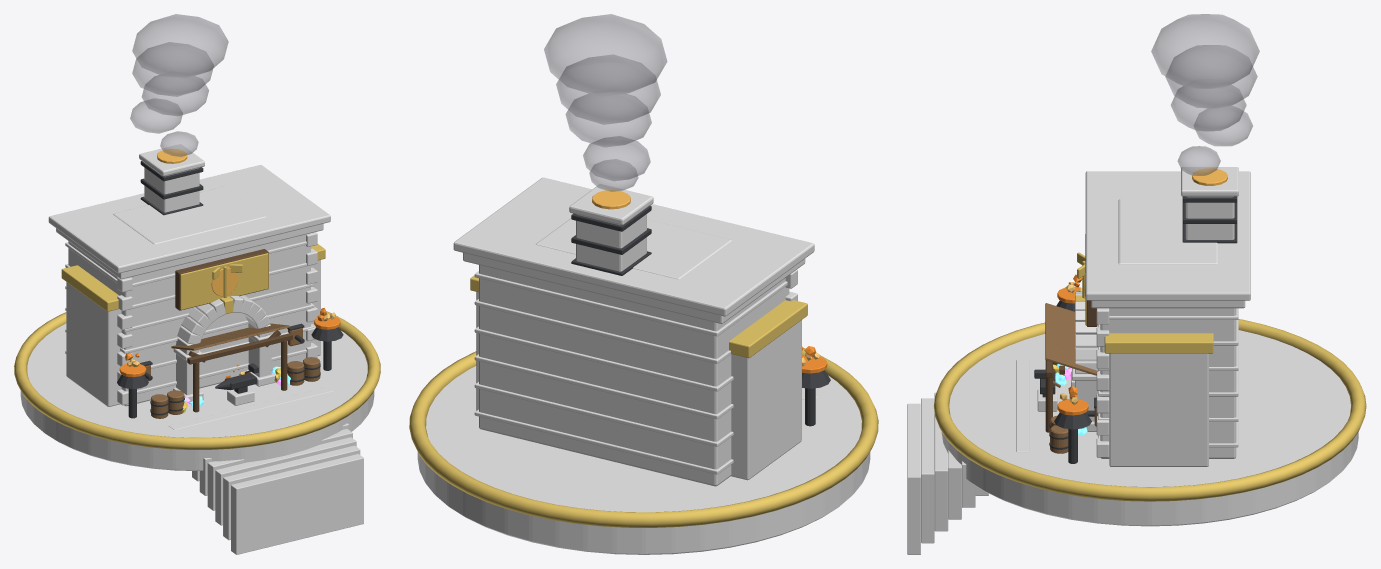
File: 02_Ignis.fbx
The picture shows the model from 3 angles, left to right: view 1: azimuth 30°, elevation 25°; view 2: azimuth 150°, elevation 25°; view 3: azimuth 270°, elevation 25°; orthographic projection. The views are drawn at different scales.
Visible parts, largest first — view 1: Ig_Plat, Ig_Corpo, Ig_Cornija2, Ig_Deg8, Ig_PlatAro, Ig_Contraf-1, Ig_Fumaca4, Ig_Pedestal, Ig_Fumaca3, Ig_PlacaMold, Ig_Fumaca2, Ig_Deg7 (+18 smaller); view 2: Ig_Corpo, Ig_Plat, Ig_Cornija2, Ig_PlatAro, Ig_Contraf-1, Ig_Fumaca4, Ig_Fumaca3, Ig_Pedestal, Ig_Fumaca2, Ig_Cornija, Ig_Cham, Ig_Fumaca1 (+11 smaller); view 3: Ig_Plat, Ig_Cornija2, Ig_PlatAro, Ig_Contraf1, Ig_Fumaca4, Ig_Corpo, Ig_Pedestal, Ig_Fumaca3, Ig_Fumaca2, Ig_ContrafT1, Ig_Deg8, Ig_Deg7 (+8 smaller).
Boxes of the visible parts, bbox=[...] form: Ig_Plat: bbox=[20, 323, 374, 470]; Ig_Corpo: bbox=[68, 233, 310, 406]; Ig_Cornija2: bbox=[48, 165, 330, 273]; Ig_Deg8: bbox=[231, 454, 363, 554]; Ig_PlatAro: bbox=[14, 309, 380, 449]; Ig_Contraf-1: bbox=[66, 282, 121, 406]; Ig_Fumaca4: bbox=[132, 14, 228, 78]; Ig_Pedestal: bbox=[113, 186, 266, 244]; Ig_Fumaca3: bbox=[132, 42, 213, 96]; Ig_PlacaMold: bbox=[180, 253, 268, 309]; Ig_Fumaca2: bbox=[142, 75, 208, 116]; Ig_Deg7: bbox=[223, 445, 360, 540]; Ig_Corpo: bbox=[479, 265, 789, 486]; Ig_Plat: bbox=[417, 366, 870, 554]; Ig_Cornija2: bbox=[453, 177, 814, 316]; Ig_PlatAro: bbox=[409, 348, 878, 527]; Ig_Contraf-1: bbox=[731, 320, 801, 480]; Ig_Fumaca4: bbox=[544, 14, 667, 96]; Ig_Fumaca3: bbox=[556, 54, 660, 124]; Ig_Pedestal: bbox=[536, 218, 732, 279]; Ig_Fumaca2: bbox=[565, 93, 651, 147]; Ig_Cornija: bbox=[463, 253, 805, 323]; Ig_Cham: bbox=[576, 214, 646, 271]; Ig_Fumaca1: bbox=[583, 136, 650, 181]; Ig_Plat: bbox=[941, 330, 1358, 526]; Ig_Cornija2: bbox=[1085, 171, 1250, 300]; Ig_PlatAro: bbox=[933, 319, 1366, 501]; Ig_Contraf1: bbox=[1109, 353, 1208, 466]; Ig_Fumaca4: bbox=[1151, 14, 1259, 88]; Ig_Corpo: bbox=[1100, 308, 1236, 458]; Ig_Pedestal: bbox=[1118, 199, 1217, 264]; Ig_Fumaca3: bbox=[1165, 45, 1257, 107]; Ig_Fumaca2: bbox=[1171, 85, 1246, 131]; Ig_ContrafT1: bbox=[1104, 333, 1213, 353]; Ig_Deg8: bbox=[907, 403, 920, 554]; Ig_Deg7: bbox=[921, 398, 934, 543].
Size of the model in its own units: 4770 by 6100 by 5060.
